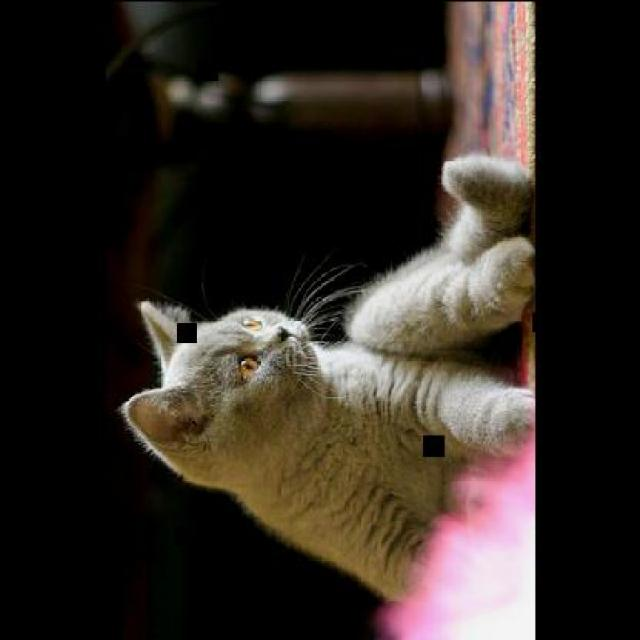unauthorized: (117, 154, 535, 603), (340, 152, 534, 356)
